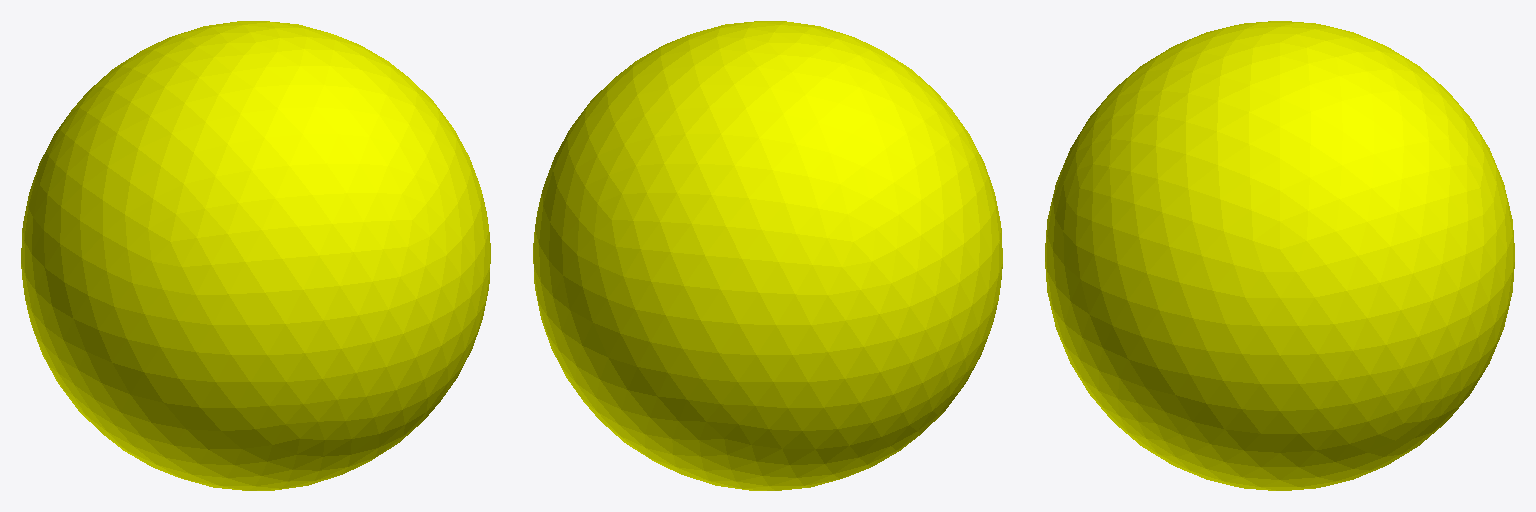
Rendered from YellowSphere.obj.
3 views of the same model, side by side, from view 1: azimuth 30°, elevation 25°; view 2: azimuth 150°, elevation 25°; view 3: azimuth 270°, elevation 25° (orthographic).
Visible parts, largest first — view 1: Icosphere_Icosphere.001; view 2: Icosphere_Icosphere.001; view 3: Icosphere_Icosphere.001.
Boxes of the visible parts, <box> form: Icosphere_Icosphere.001: <box>21,21,490,490</box>; Icosphere_Icosphere.001: <box>533,21,1002,490</box>; Icosphere_Icosphere.001: <box>1045,21,1514,490</box>.
Bounding box in the file's own units: 2 × 2 × 2.